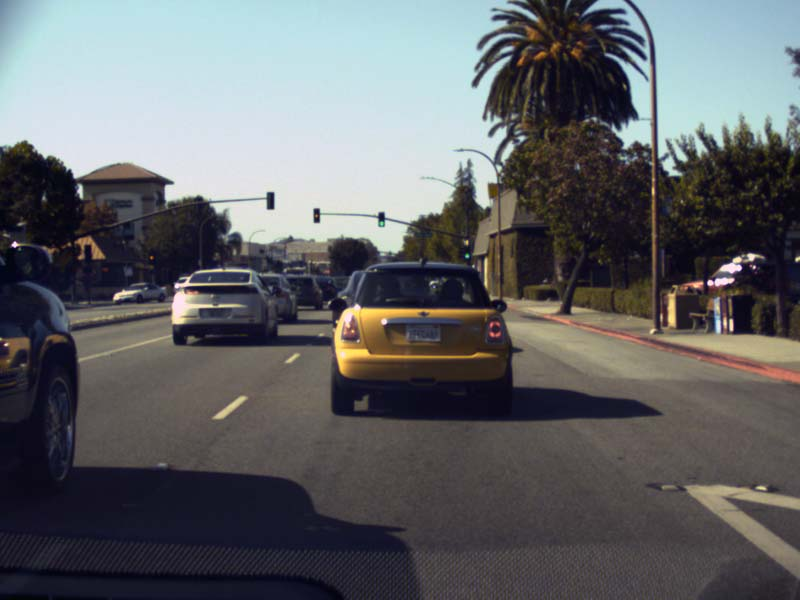Green: (462, 246, 470, 261), (377, 212, 384, 226)
Yellow: (148, 250, 155, 264), (313, 207, 319, 222)
